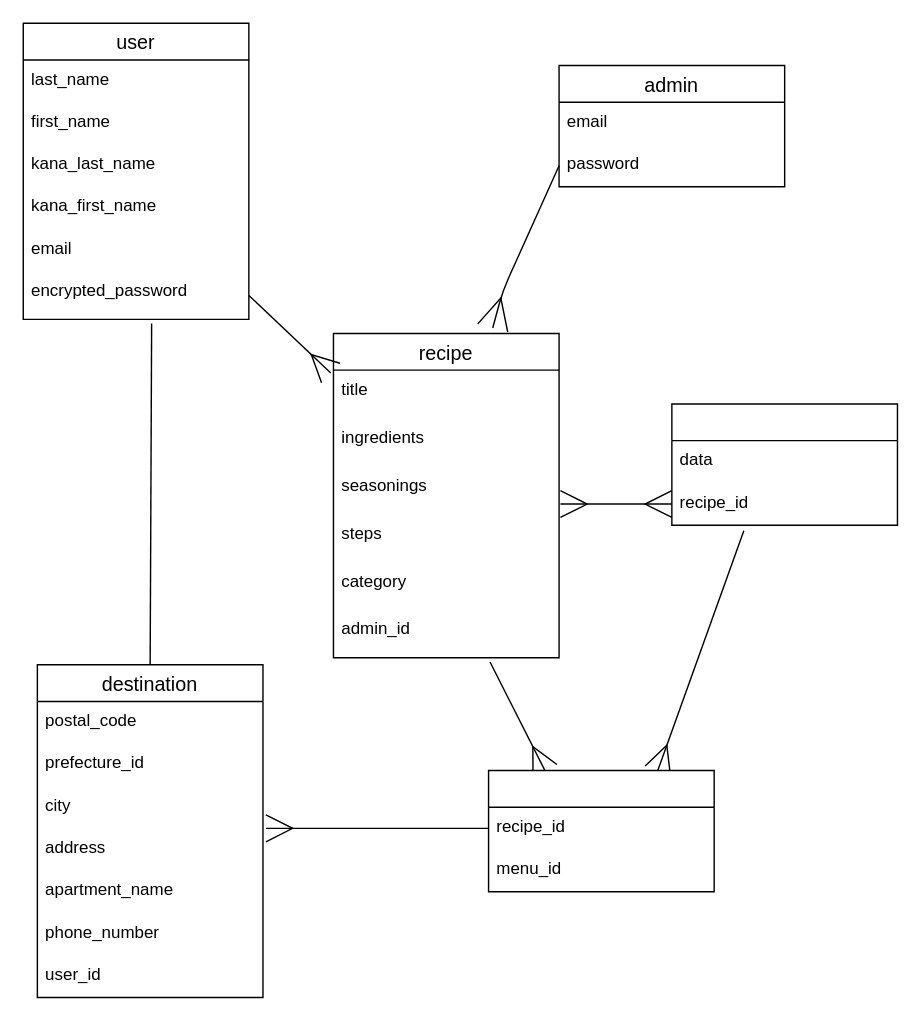
The diagram is 921 pixels wide and 1021 high, and some of its shapes have lost their labels. The shapes that lost their labels are listed below. From the top down, each one's box as (x1, y1, x2, y2) in pixels, then its label:
(670, 403, 897, 525): menu
(487, 769, 714, 892): recipe_menu
